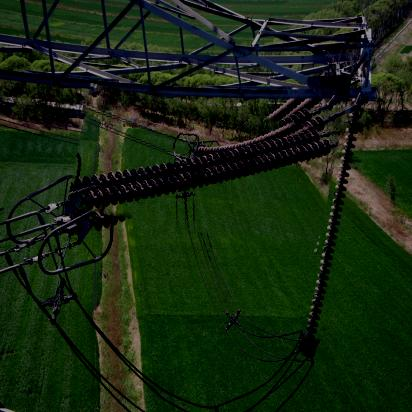insulator: (73, 96, 337, 245)
